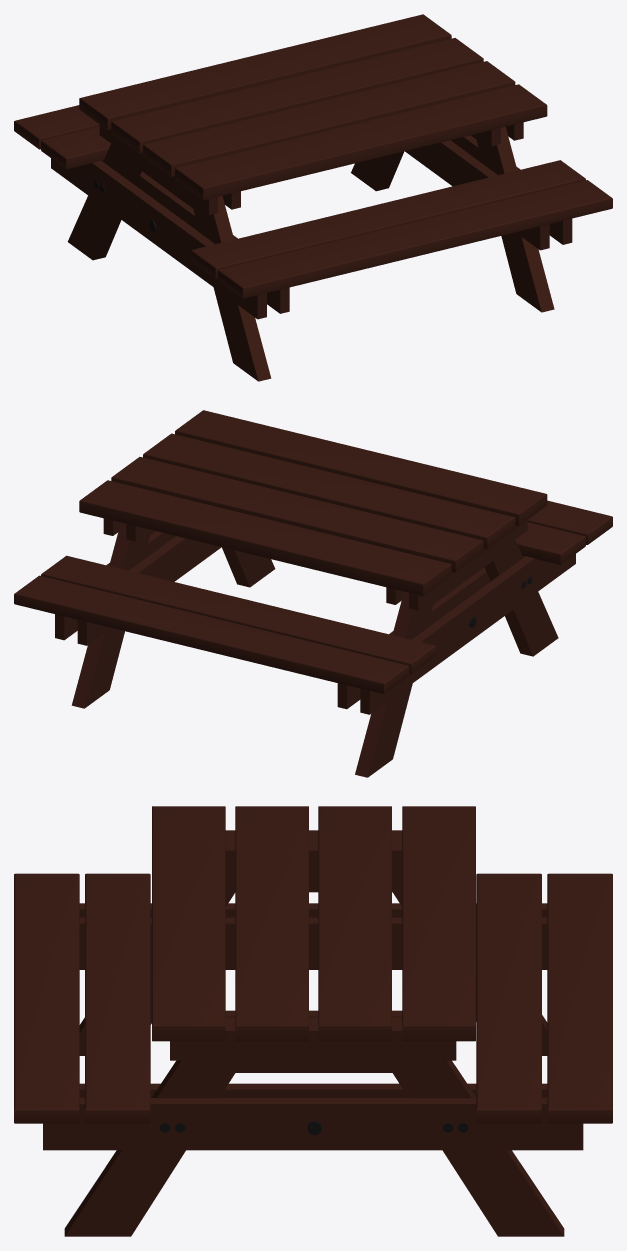
Rendered from Table.FBX.
The picture shows the model from 3 angles, top to bottom: view 1: azimuth 30°, elevation 25°; view 2: azimuth 150°, elevation 25°; view 3: azimuth 270°, elevation 25°; orthographic projection. The views are drawn at different scales.
Visible parts, largest first — view 1: Table Top, Seat2, Supports, Legs, Seat1, Supports001; view 2: Table Top, Seat1, Legs, Supports, Seat2, Supports001; view 3: Table Top, Seat2, Seat1, Supports, Legs, Supports001.
Boxes of the visible parts, bbox=[...] form: Table Top: bbox=[79, 14, 547, 200]; Seat2: bbox=[190, 160, 612, 298]; Supports: bbox=[51, 135, 572, 319]; Legs: bbox=[67, 126, 554, 381]; Seat1: bbox=[14, 105, 110, 169]; Supports001: bbox=[99, 122, 523, 214]; Table Top: bbox=[79, 410, 547, 595]; Seat1: bbox=[14, 555, 436, 694]; Legs: bbox=[71, 522, 558, 777]; Supports: bbox=[55, 531, 575, 714]; Seat2: bbox=[515, 500, 612, 564]; Supports001: bbox=[103, 518, 527, 610]; Table Top: bbox=[152, 806, 475, 1041]; Seat2: bbox=[14, 873, 150, 1123]; Seat1: bbox=[476, 873, 612, 1123]; Supports: bbox=[43, 903, 583, 1150]; Legs: bbox=[64, 836, 564, 1236]; Supports001: bbox=[170, 830, 456, 1060].
Size of the model in its own units: 21.31 by 22.83 by 9.59.
